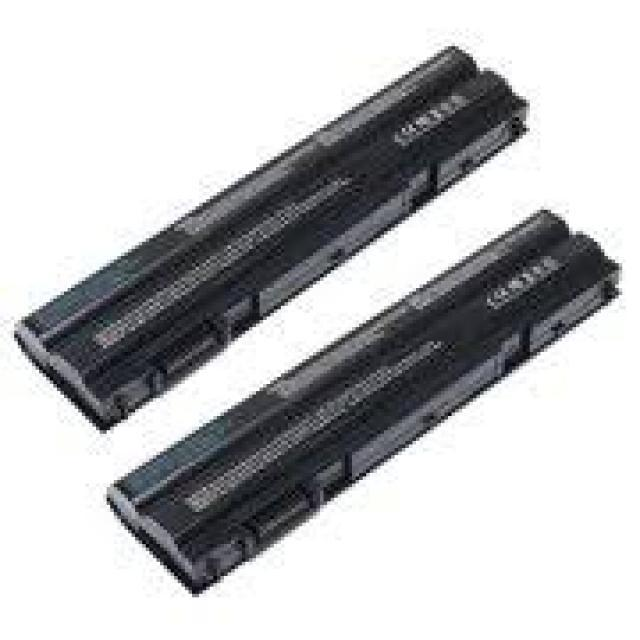battery: (105, 200, 632, 594), (18, 42, 526, 430)
